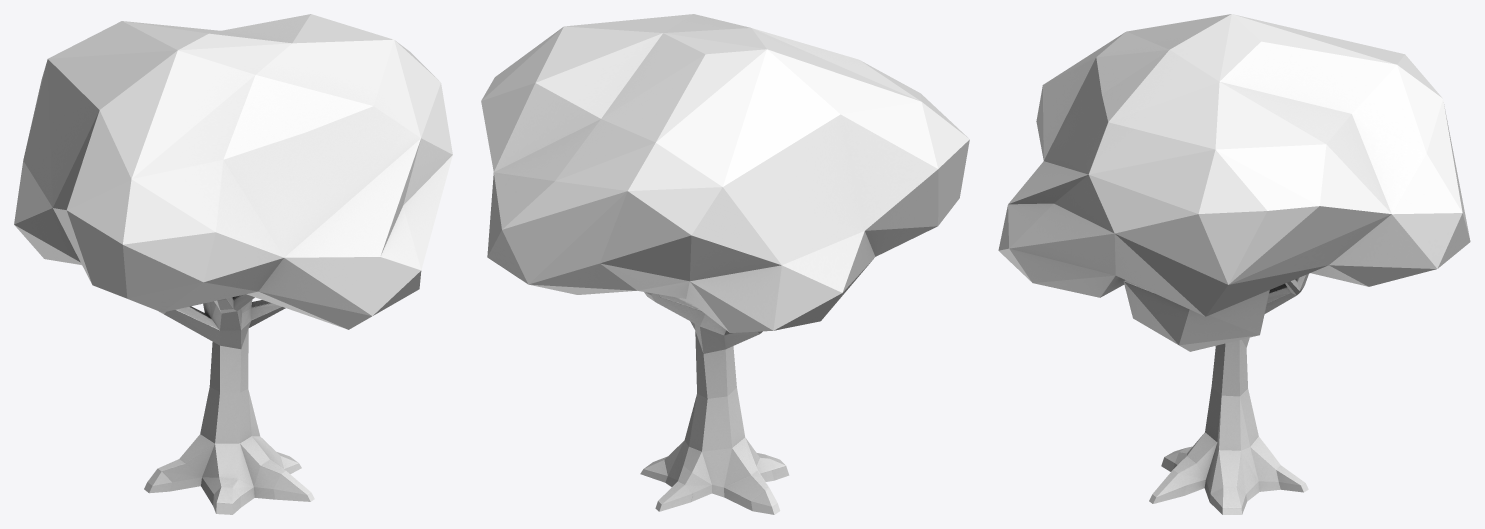
The model's file is Tree 5.fbx.
The picture shows the model from 3 angles, left to right: view 1: azimuth 30°, elevation 25°; view 2: azimuth 150°, elevation 25°; view 3: azimuth 270°, elevation 25°; orthographic projection.
Visible parts, largest first — view 1: Mball.010; view 2: Mball.010; view 3: Mball.010.
Part boxes in pixels (bbox=[...]): Mball.010: bbox=[14, 14, 452, 514]; Mball.010: bbox=[481, 14, 969, 514]; Mball.010: bbox=[998, 14, 1470, 514].
Size of the model in its own units: 1323 by 1400 by 1353.
